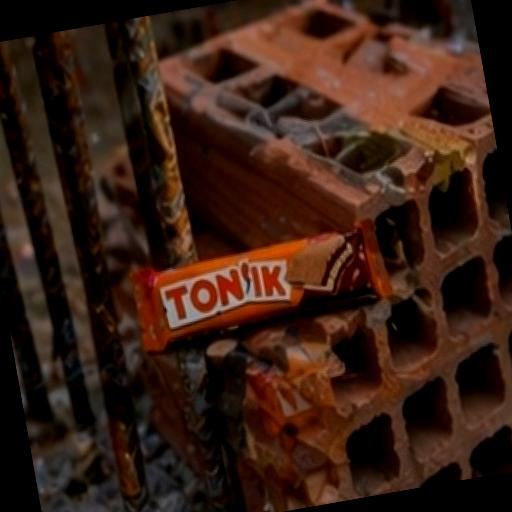tonik: (49, 77, 512, 437)
